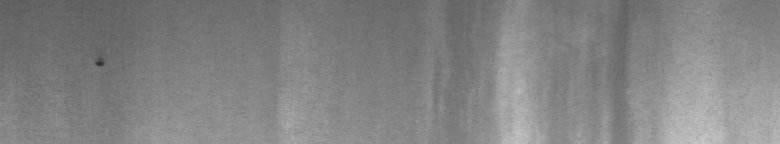fi: (89, 52, 108, 72)
